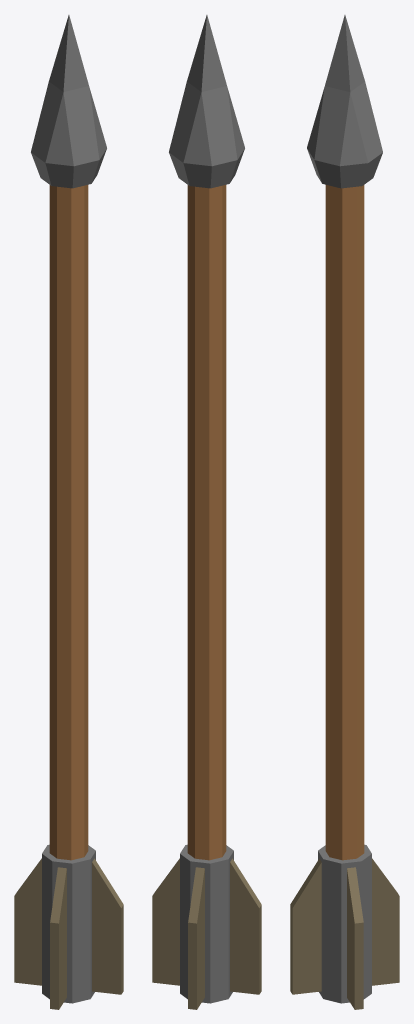
Rendered from Arrow.fbx.
The picture shows the model from 3 angles, left to right: view 1: azimuth 30°, elevation 25°; view 2: azimuth 210°, elevation 25°; view 3: azimuth 330°, elevation 25°; orthographic projection.
Parts seen in each view (by area): view 1: Cylinder.018; view 2: Cylinder.018; view 3: Cylinder.018.
Part boxes in pixels (left/top/right/bottom): Cylinder.018: left=14, top=15, right=123, bottom=1009; Cylinder.018: left=152, top=15, right=261, bottom=1009; Cylinder.018: left=290, top=15, right=399, bottom=1009.
Bounding box in the file's own units: 26.18 × 332 × 26.18.
